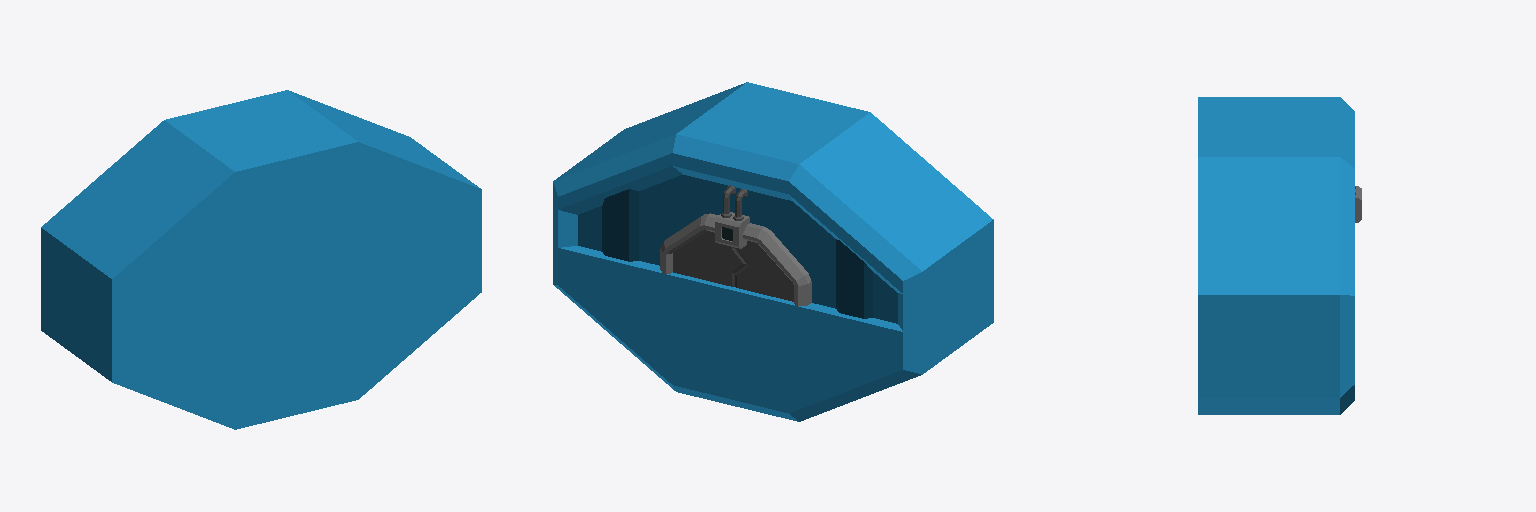
The model's file is Spacestation_Structure_Runway_Fuselage.obj.
3 views of the same model, side by side, from view 1: azimuth 30°, elevation 25°; view 2: azimuth 150°, elevation 25°; view 3: azimuth 270°, elevation 25° (orthographic).
Parts seen in each view (by area): view 1: object10; view 2: object10, object3, object11, object2, object1, object7, object4, object8; view 3: object10.
Boxes of the visible parts, x1,y1,x2,y2 form: object10: [41, 90, 481, 429]; object10: [553, 82, 993, 421]; object3: [578, 175, 897, 323]; object11: [660, 213, 811, 306]; object2: [673, 231, 746, 286]; object1: [602, 189, 638, 261]; object7: [836, 239, 872, 318]; object4: [735, 241, 793, 301]; object8: [715, 212, 749, 248]; object10: [1198, 97, 1354, 414].
Size of the model in its own units: 3 by 2 by 1.15.